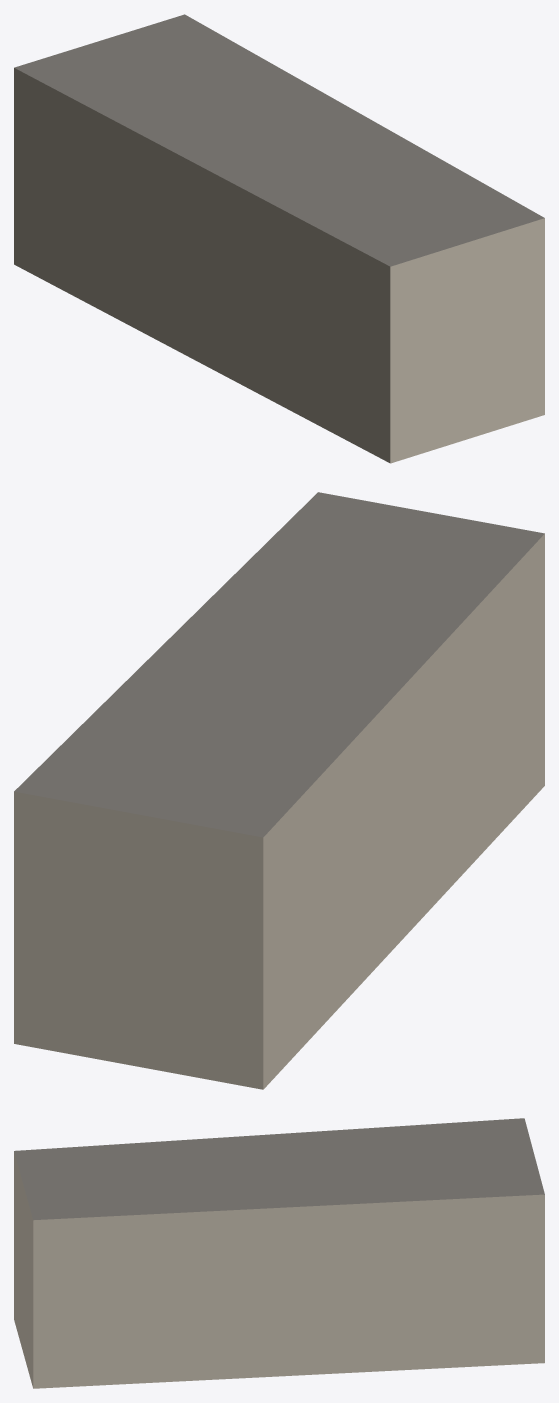
3 views of the same model, one above another, from view 1: azimuth 30°, elevation 25°; view 2: azimuth 150°, elevation 25°; view 3: azimuth 270°, elevation 25° (orthographic). The views are drawn at different scales.
Parts seen in each view (by area): view 1: HP-w11636796; view 2: HP-w11636796; view 3: HP-w11636796.
Part boxes in pixels (box(x1,y1,x2,y2)): HP-w11636796: box(14, 14, 544, 463); HP-w11636796: box(14, 492, 544, 1089); HP-w11636796: box(14, 1118, 544, 1388).
Bounding box in the file's own units: 23.36 × 18 × 51.38.
